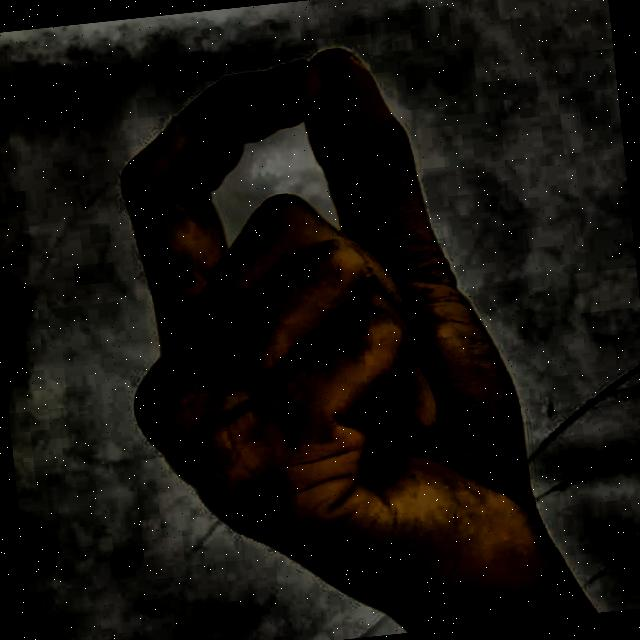Gha: (68, 9, 601, 640)
